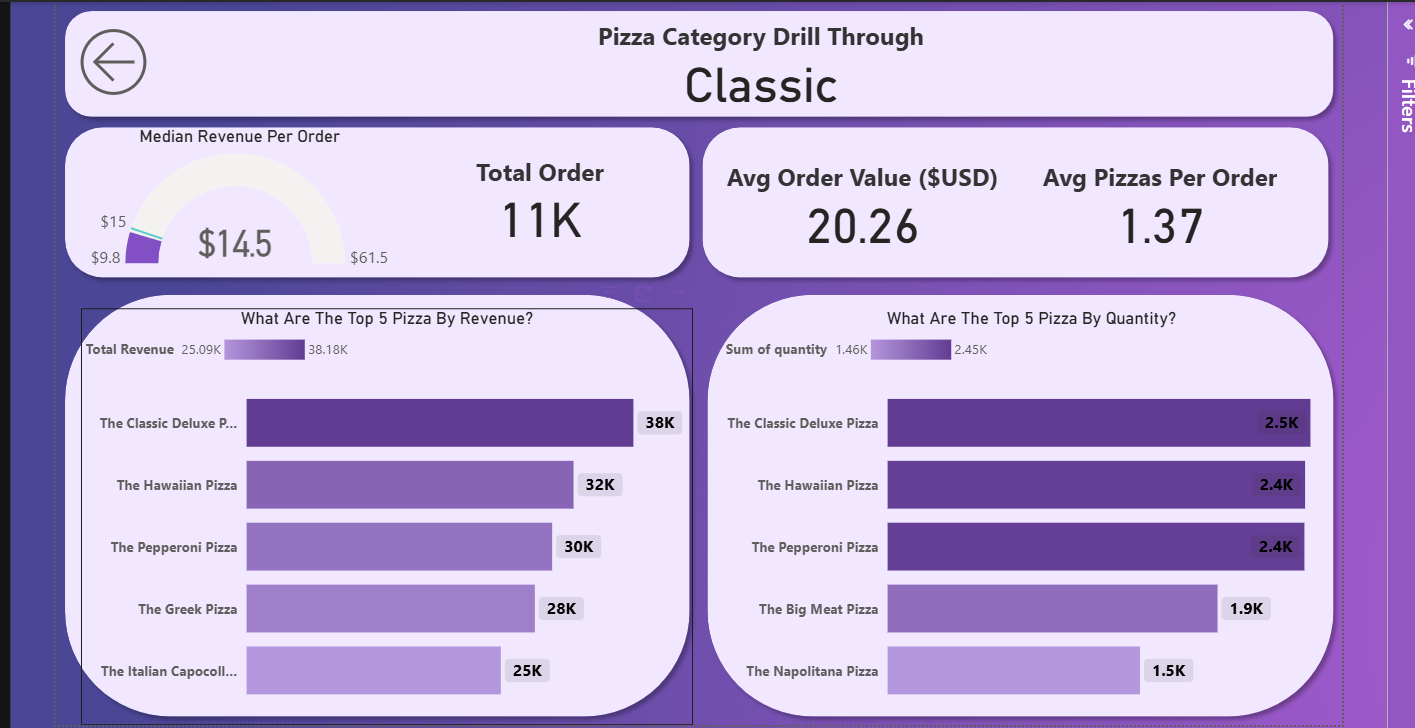

Layout of this report page (visuals, bound fields, positions):
{"tool":"powerbi","page":{"name":"Pizza_Category_Drill_Through","canvas":[1280,720],"ordinal":1},"visuals":[{"type":"group","id":"g1","title":"Background","box":[0,0,1280.3,720.4],"z":0},{"type":"shape","box":[0,115.3,639.5,167.4],"z":0,"group":"g1"},{"type":"shape","box":[0,0,1280,123.2],"z":1000,"group":"g1"},{"type":"gauge","title":"Median Revenue Per Order","fields":{"Y":["Median(pizza_sales.total_price)"],"MaxValue":["Max(pizza_sales.total_price)1"],"MinValue":["Min(pizza_sales.total_price)"],"TargetValue":["Avg(pizza_sales.total_price)2"]},"box":[24.9,123.2,316,150.5],"z":1000},{"type":"shape","box":[634,115.3,640.8,167.4],"z":2000,"group":"g1"},{"type":"barChart","title":"What Are The Top 5 Pizza By Revenue?","fields":{"Category":["pizza_sales.pizza_name"],"Y":["pizza_sales.Total Revenue"]},"box":[24.9,304.8,609.5,415.5],"z":2000},{"type":"cardVisual","fields":{"Data":["Min(pizza_sales.pizza_category)"]},"box":[502.6,0,398.1,115.7],"z":3000},{"type":"shape","box":[0,282.7,639.5,437.7],"z":3000,"group":"g1"},{"type":"actionButton","box":[16.7,18.1,147.5,82.1],"z":4000},{"type":"shape","box":[639.5,282.7,640.8,437.7],"z":4000,"group":"g1"},{"type":"barChart","title":"What Are The Top 5 Pizza By Quantity?","fields":{"Category":["pizza_sales.pizza_name"],"Y":["Sum(pizza_sales.quantity)"]},"box":[661.8,304.8,618.2,415.5],"z":5000},{"type":"cardVisual","fields":{"Data":["pizza_sales.Total Order"]},"box":[324.7,123.2,314.7,150.5],"z":6000},{"type":"cardVisual","fields":{"Data":["pizza_sales.Avg Order Value"]},"box":[640.6,140.6,324.7,115.7],"z":7000},{"type":"cardVisual","fields":{"Data":["pizza_sales.Avg Pizzas Per Order"]},"box":[939.2,140.6,319.7,115.7],"z":8000}]}

Visuals, with their boxes in screenshot pixels (x1, y1, x2, y2):
"Background" group: bbox(52, 0, 1331, 716)
shape: bbox(52, 112, 691, 279)
shape: bbox(52, 0, 1331, 119)
"Median Revenue Per Order" gauge: bbox(76, 119, 392, 270)
shape: bbox(685, 112, 1326, 279)
"What Are The Top 5 Pizza By Revenue?" barChart: bbox(76, 301, 686, 716)
cardVisual - Min(pizza_sales.pizza_category): bbox(554, 0, 952, 112)
shape: bbox(52, 279, 691, 716)
actionButton: bbox(68, 14, 216, 96)
shape: bbox(691, 279, 1331, 716)
"What Are The Top 5 Pizza By Quantity?" barChart: bbox(713, 301, 1331, 716)
cardVisual - pizza_sales.Total Order: bbox(376, 119, 691, 270)
cardVisual - pizza_sales.Avg Order Value: bbox(692, 137, 1016, 252)
cardVisual - pizza_sales.Avg Pizzas Per Order: bbox(990, 137, 1310, 252)
